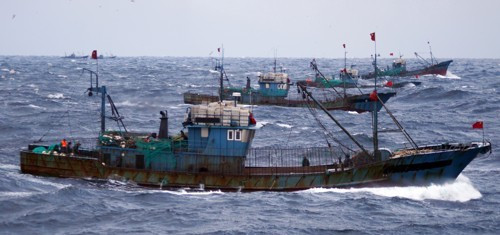airplane: (17, 71, 494, 193), (169, 54, 398, 117), (290, 42, 458, 82), (264, 51, 426, 88)
